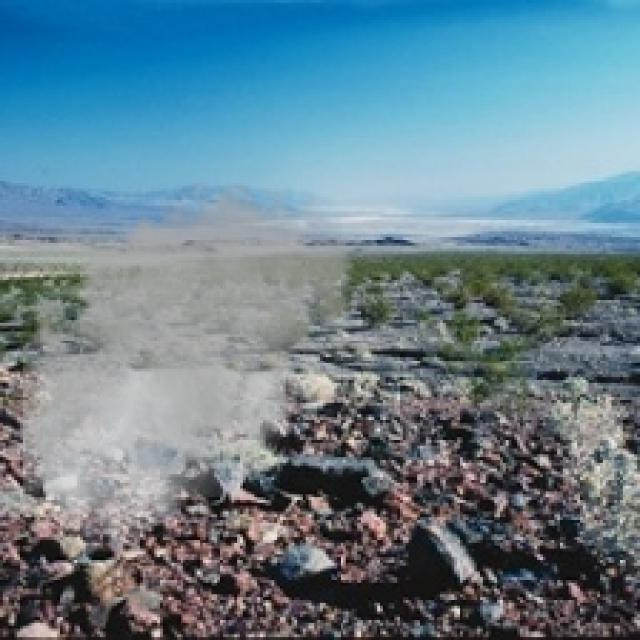Smoke: (8, 168, 360, 552)
